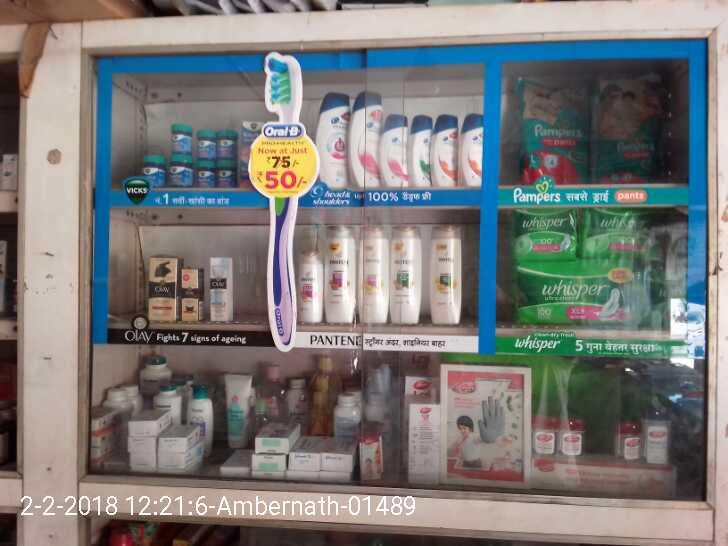vicks: (142, 117, 256, 194)
